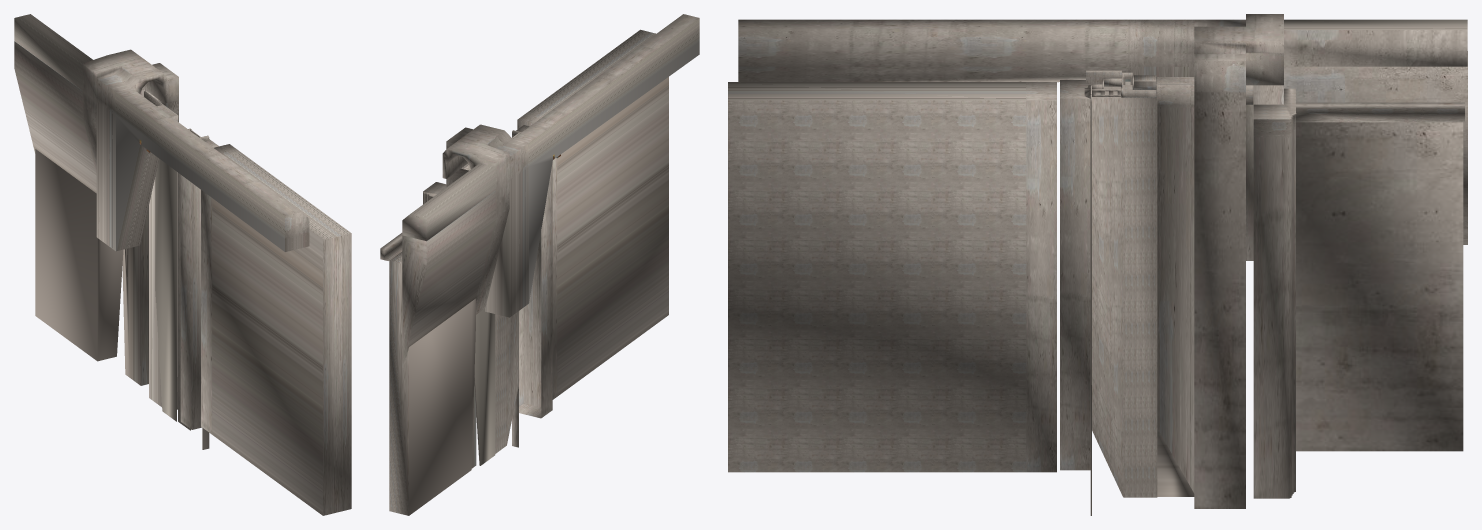
File: ending_BG.glb
3 views of the same model, side by side, from view 1: azimuth 30°, elevation 25°; view 2: azimuth 150°, elevation 25°; view 3: azimuth 270°, elevation 25° (orthographic). The views are drawn at different scales.
Parts seen in each view (by area): view 1: Cube.062-col.005, Cube.066-col.002, Plane-col.001; view 2: Cube.062-col.005, Cube.066-col.002, Plane-col.001; view 3: Cube.062-col.005, Cube.066-col.002, Plane-col.001.
Boxes of the visible parts, x1,y1,x2,y2 form: Cube.062-col.005: [14, 14, 309, 409]; Cube.066-col.002: [180, 139, 351, 515]; Plane-col.001: [144, 91, 209, 449]; Cube.062-col.005: [380, 14, 699, 515]; Cube.066-col.002: [516, 29, 668, 418]; Plane-col.001: [463, 130, 521, 465]; Cube.062-col.005: [738, 14, 1467, 508]; Cube.066-col.002: [728, 80, 1090, 472]; Plane-col.001: [1084, 70, 1253, 515].
Size of the model in its own units: 45.38 by 216 by 308.
10 materials, 10 textured.
